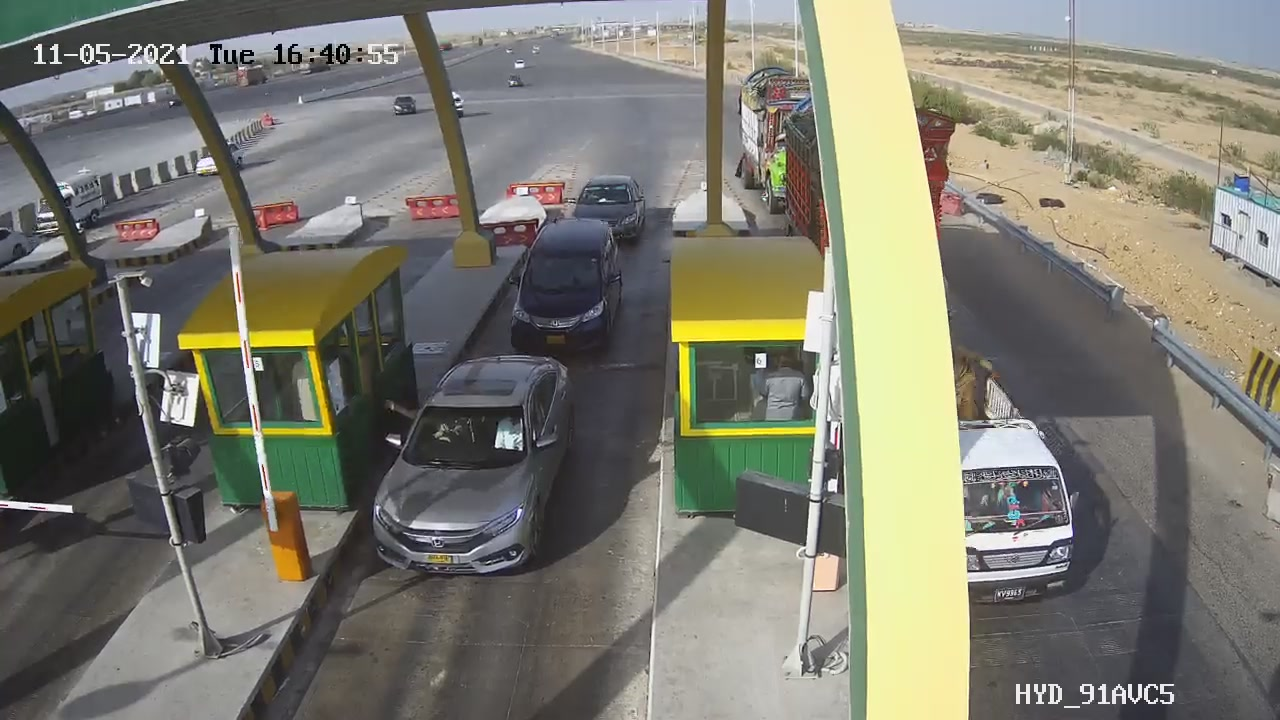F1: (352, 343, 592, 592), (493, 208, 640, 362)
